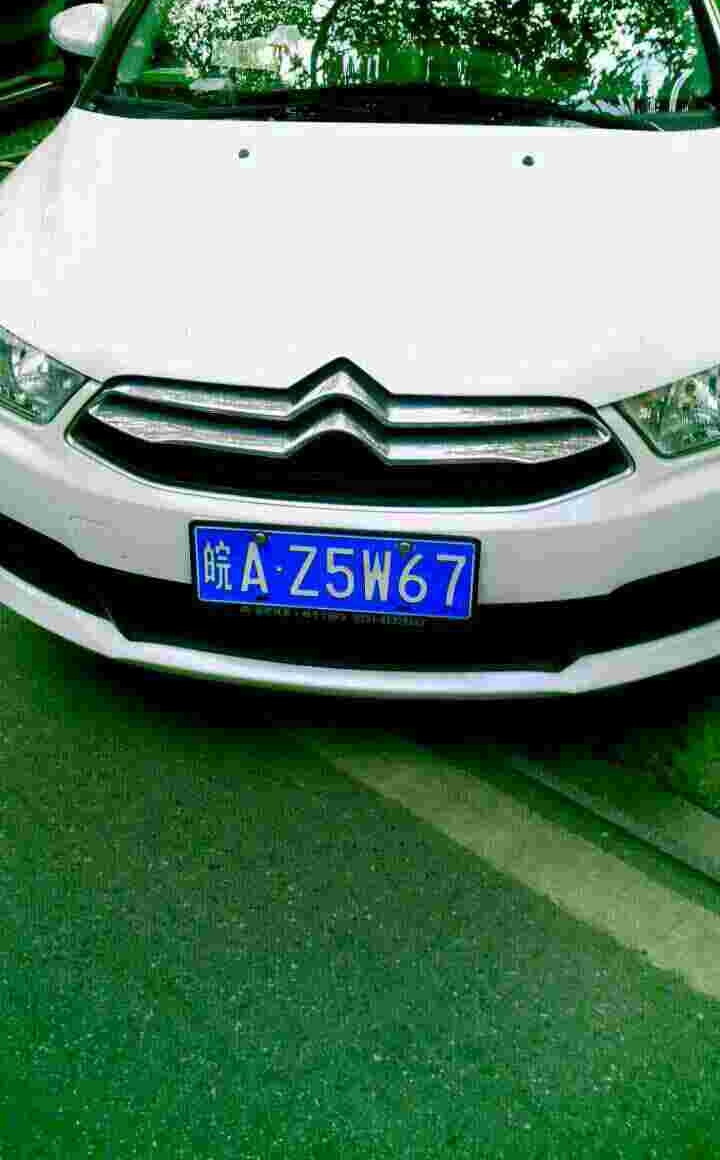car: (179, 520, 475, 630)
